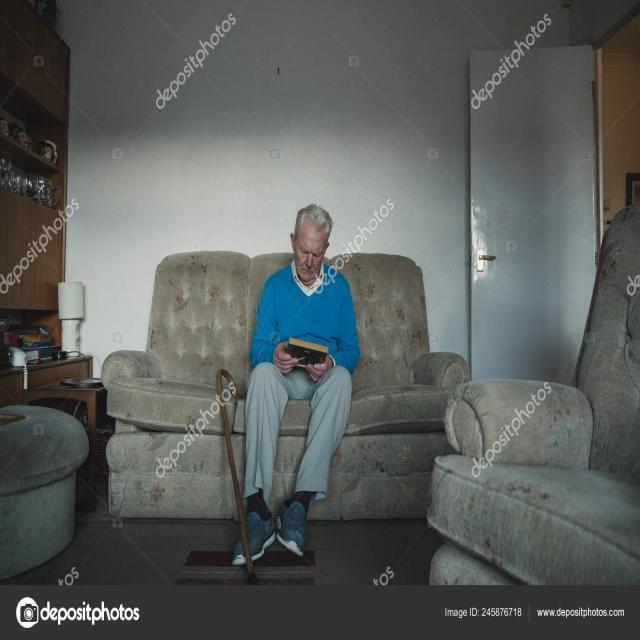sitting: (230, 195, 354, 578)
